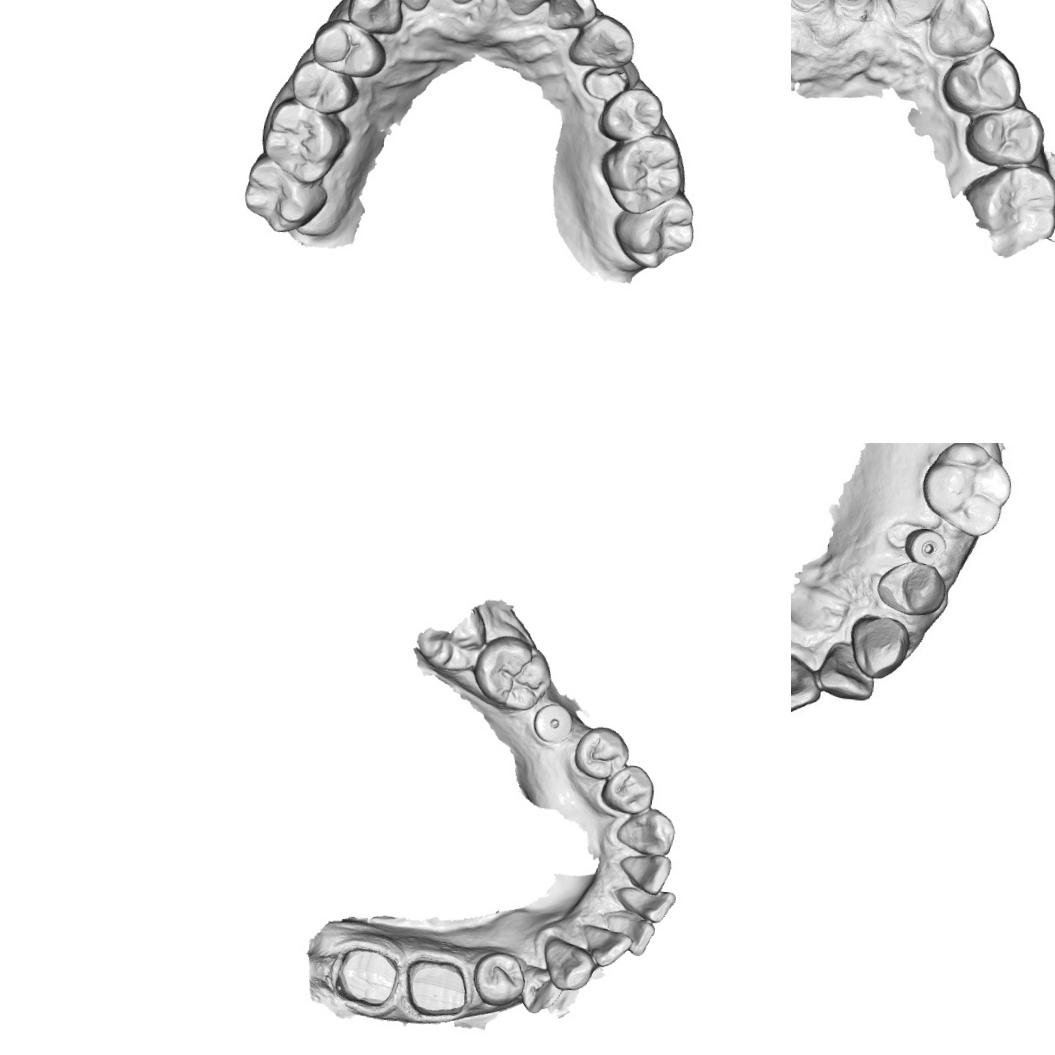canine: (925, 0, 999, 63), (564, 11, 637, 73), (538, 934, 598, 994), (615, 803, 678, 858), (850, 614, 909, 672), (342, 0, 410, 34)
crown: (326, 939, 406, 1019), (400, 946, 477, 1023)
implant: (528, 698, 575, 746), (907, 526, 946, 570), (829, 0, 869, 14), (791, 0, 824, 12)
incisor: (816, 637, 878, 706), (611, 881, 677, 926), (575, 922, 634, 972), (606, 906, 660, 958), (616, 849, 674, 897), (791, 650, 826, 723), (881, 0, 952, 28), (543, 0, 597, 32), (496, 0, 563, 20)
molar: (915, 443, 1018, 541), (964, 153, 1055, 261), (256, 94, 350, 185), (235, 150, 330, 238), (608, 188, 700, 274), (469, 630, 557, 715), (602, 132, 686, 216)
premolar: (938, 42, 1022, 120), (962, 98, 1046, 170), (871, 556, 951, 619), (308, 15, 386, 79), (594, 82, 666, 147), (287, 60, 362, 118), (470, 945, 528, 1013), (572, 722, 632, 781), (598, 762, 656, 817)
